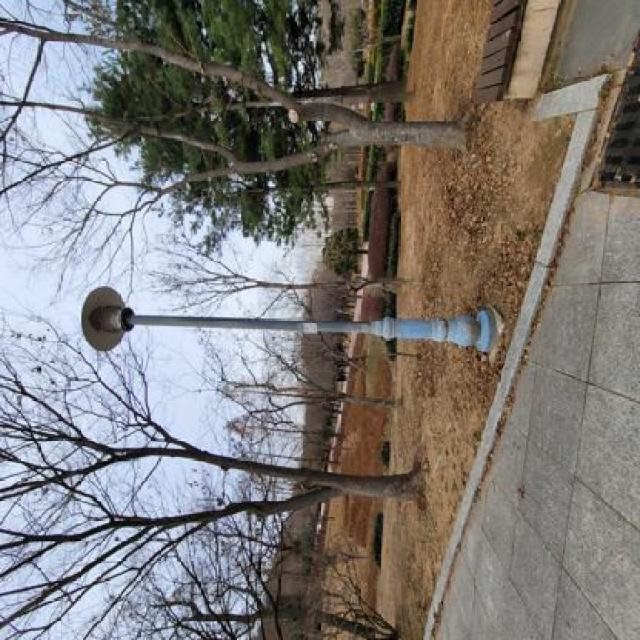pole: (62, 277, 510, 368)
